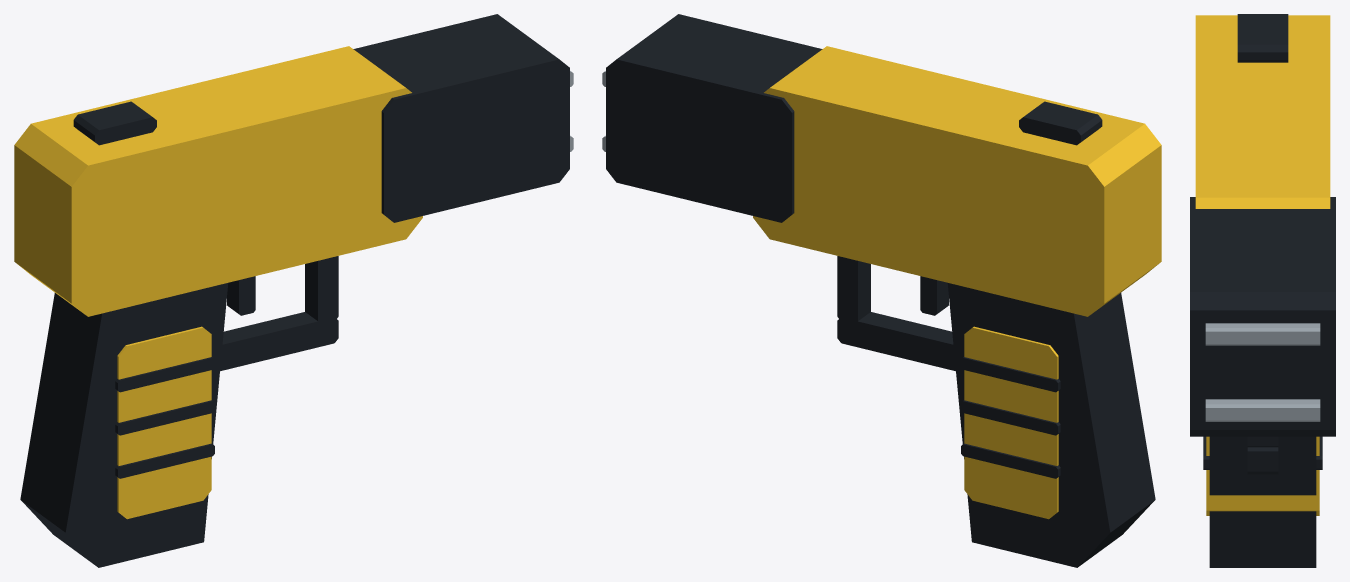
Rendered from Taser.gltf.
3 renders of one model, left to right at view 1: azimuth 30°, elevation 25°; view 2: azimuth 150°, elevation 25°; view 3: azimuth 270°, elevation 25°, orthographic. The views are drawn at different scales.
Parts seen in each view (by area): view 1: SM_Taser; view 2: SM_Taser; view 3: SM_Taser.
Part boxes in pixels (x1,y1,x2,y2): SM_Taser: (14,14,573,567); SM_Taser: (602,14,1161,567); SM_Taser: (1190,14,1335,567).
Size of the model in its own units: 0.245 by 0.197 by 0.052.
